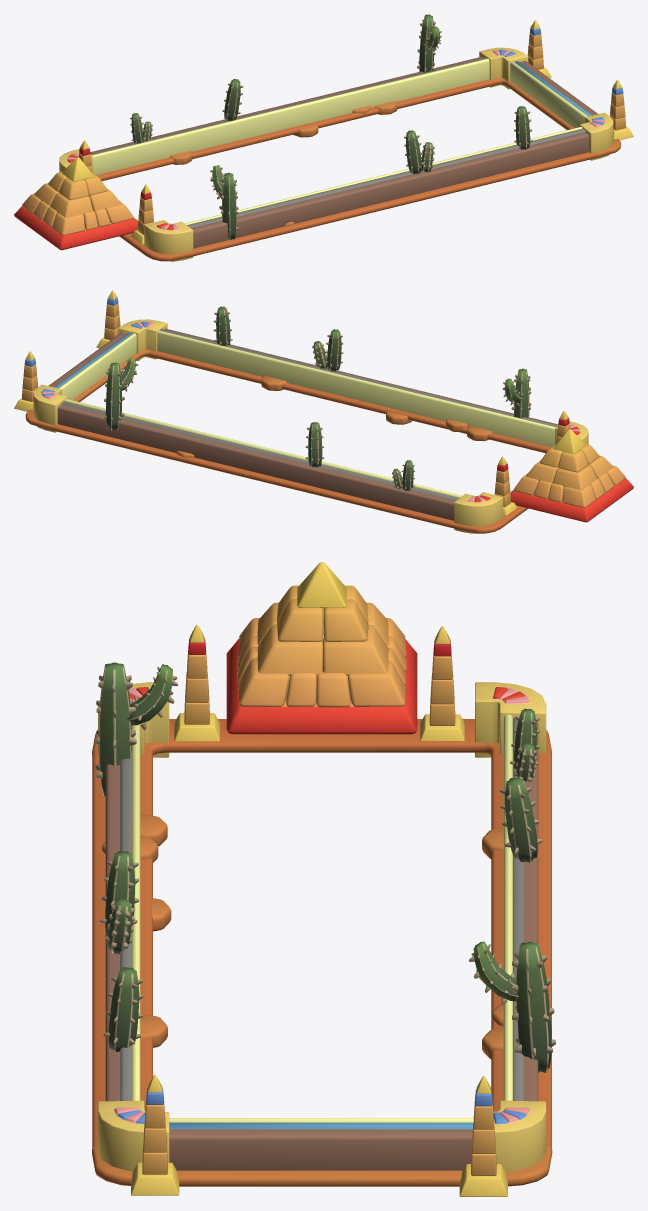
Rendered from Arena9.fbx.
The picture shows the model from 3 angles, top to bottom: view 1: azimuth 30°, elevation 25°; view 2: azimuth 150°, elevation 25°; view 3: azimuth 270°, elevation 25°; orthographic projection. The views are drawn at different scales.
Parts seen in each view (by area): view 1: Circle.133, Circle.127, Pyramid, Circle.134, Circle.135, Circle.132, Circle.120, Circle.129, Cylinder.043, Circle.128, Circle.130, Cylinder.042 (+9 smaller); view 2: Circle.133, Circle.127, Pyramid, Circle.135, Circle.134, Circle.132, Circle.119, Circle.131, Cylinder.042, Circle.120, Circle.130, Circle.128 (+9 smaller); view 3: Pyramid, Circle.132, Circle.135, Circle.134, Circle.136, Circle.118, Circle.127, Circle.133, Cylinder.042, Cylinder.043, Circle.130, Circle.131 (+14 smaller).
Part boxes in pixels (left/top/right/bottom): Circle.133: left=90, top=56, right=489, bottom=175; Circle.127: left=185, top=127, right=588, bottom=248; Pyramid: left=14, top=157, right=137, bottom=250; Circle.134: left=96, top=79, right=497, bottom=180; Circle.135: left=188, top=152, right=597, bottom=257; Circle.132: left=510, top=61, right=597, bottom=128; Circle.120: left=187, top=128, right=585, bottom=228; Circle.129: left=144, top=220, right=193, bottom=261; Cylinder.043: left=210, top=165, right=238, bottom=240; Circle.128: left=579, top=112, right=613, bottom=160; Circle.130: left=479, top=47, right=528, bottom=89; Cylinder.042: left=417, top=14, right=441, bottom=72; Circle.133: left=57, top=398, right=462, bottom=520; Circle.127: left=157, top=328, right=558, bottom=447; Pyramid: left=510, top=429, right=633, bottom=522; Circle.135: left=149, top=350, right=551, bottom=453; Circle.134: left=49, top=424, right=459, bottom=529; Circle.132: left=48, top=332, right=136, bottom=399; Circle.119: left=61, top=401, right=459, bottom=500; Circle.131: left=454, top=492, right=503, bottom=533; Cylinder.042: left=104, top=357, right=138, bottom=430; Circle.120: left=160, top=329, right=557, bottom=427; Circle.130: left=33, top=384, right=66, bottom=432; Circle.128: left=118, top=319, right=167, bottom=360; Pyramid: left=226, top=562, right=417, bottom=734; Circle.132: left=169, top=1118, right=473, bottom=1170; Circle.135: left=92, top=748, right=171, bottom=1148; Circle.134: left=479, top=748, right=551, bottom=1148; Circle.136: left=92, top=1146, right=552, bottom=1186; Circle.118: left=92, top=719, right=551, bottom=755; Circle.127: left=105, top=724, right=140, bottom=1101; Circle.133: left=503, top=714, right=538, bottom=1101; Cylinder.042: left=469, top=941, right=555, bottom=1072; Cylinder.043: left=95, top=662, right=177, bottom=796; Circle.130: left=493, top=1100, right=546, bottom=1171; Circle.131: left=475, top=682, right=546, bottom=757.
Size of the model in its own units: 43.77 by 6.12 by 16.01.
